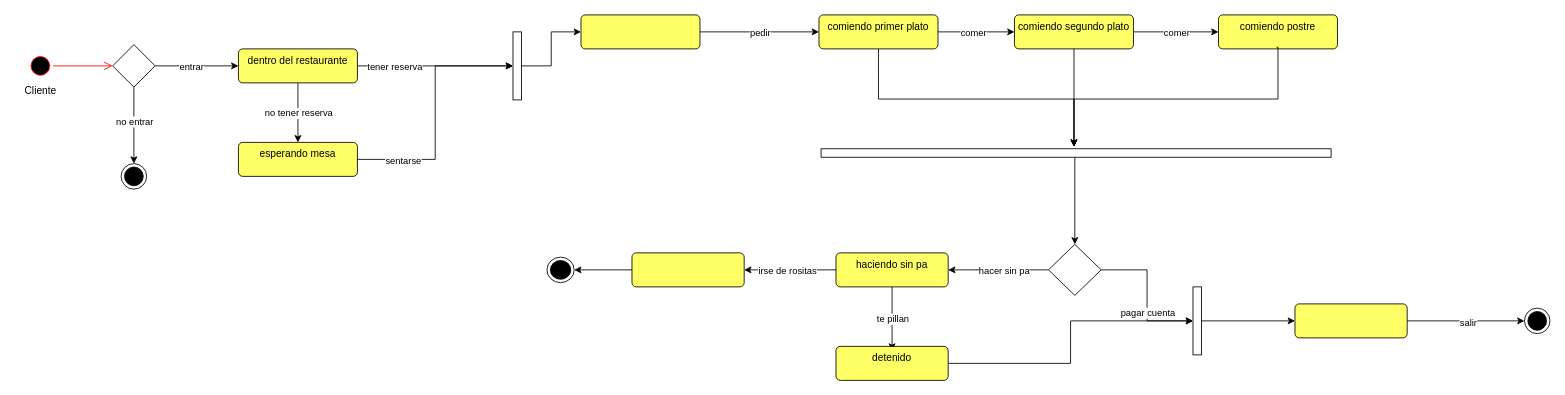
Image size: 1565x395. Some labels were removed from this diagram. The centre of each missing label's shape, as x and y in pixels:
"A salvo" belongs at point 687,269.
"pagando cuenta" belongs at point 1350,320.
"sentado mesa" belongs at point 640,31.
